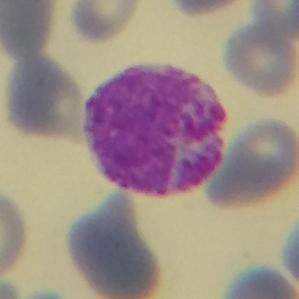Basophil: (76, 50, 237, 208)
RBC: (61, 193, 168, 299), (203, 114, 299, 212), (0, 52, 89, 144), (220, 18, 299, 100), (67, 0, 146, 45), (0, 0, 60, 55), (0, 185, 32, 283), (219, 263, 299, 299), (250, 0, 299, 40), (278, 200, 299, 293), (165, 0, 254, 17), (5, 288, 81, 299), (0, 276, 24, 299)
